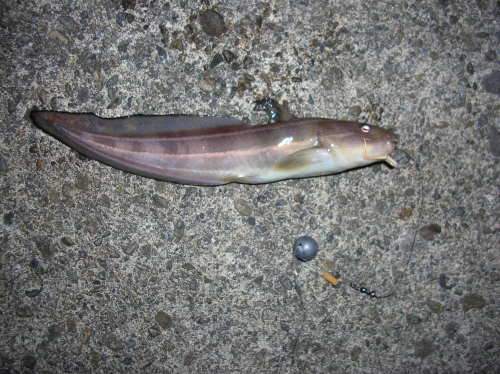gonzui: (10, 99, 439, 199)
